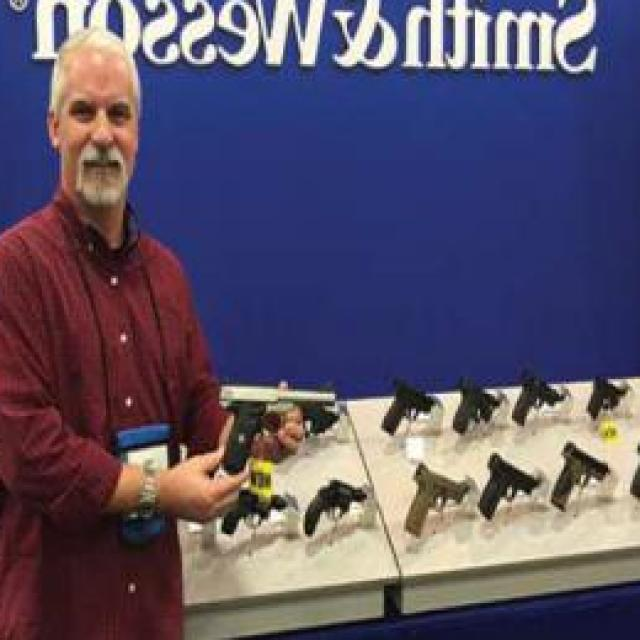pistol: (220, 374, 340, 467), (389, 463, 480, 534), (470, 445, 539, 517), (545, 443, 613, 515), (302, 472, 369, 542), (382, 379, 441, 441), (220, 485, 288, 537), (510, 372, 566, 432), (453, 376, 502, 441), (587, 377, 630, 416), (628, 440, 640, 509)
